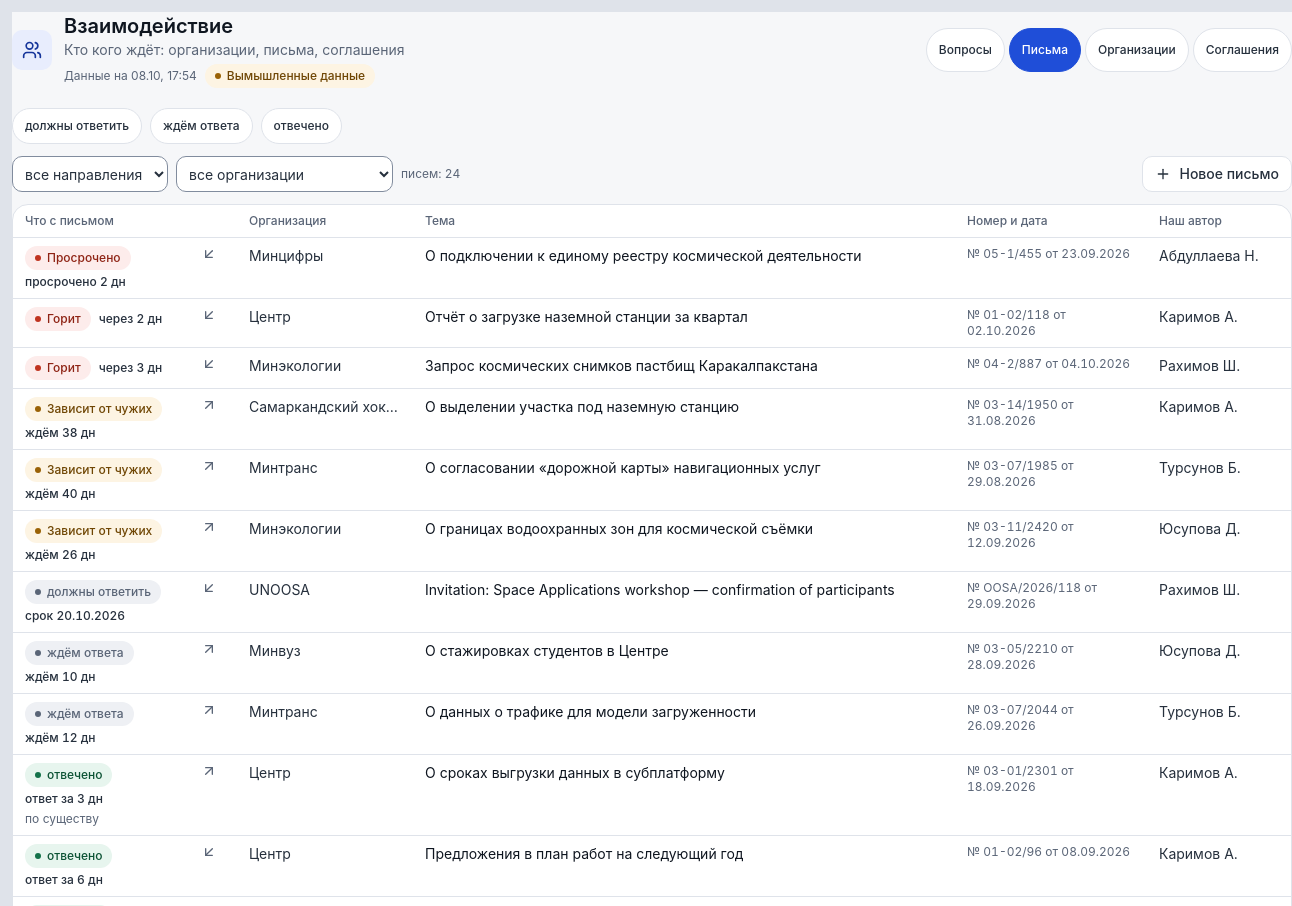
Test case: Взаимодействие › помощник вносит письмо — оно в списке
Click the button "Новое письмо" at x=1217, y=174, box [1142,156,1291,192]
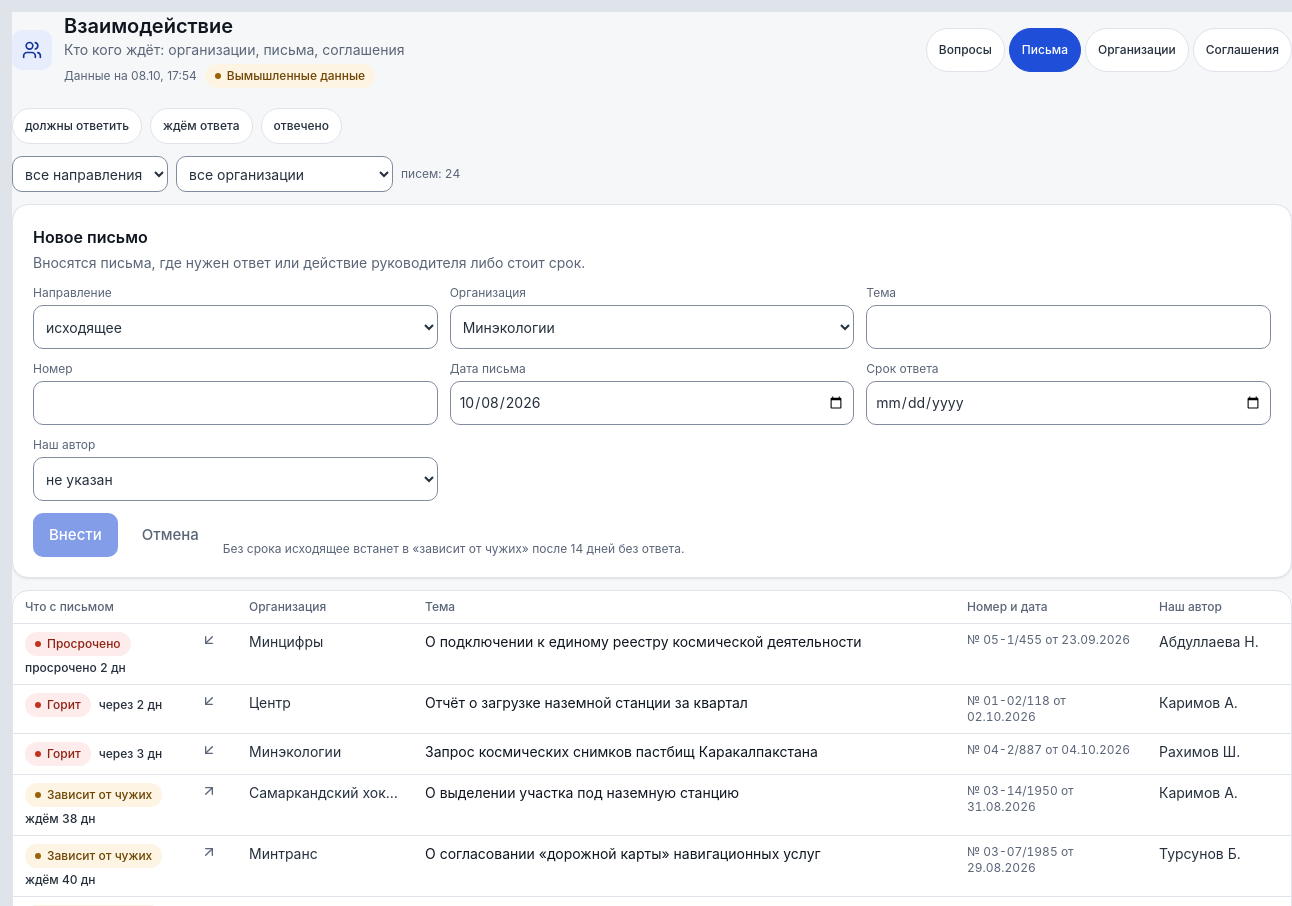
Type "О данных для отчёта по засухе" into the field labelled "Тема" at x=1069, y=327, box [866,305,1271,349]
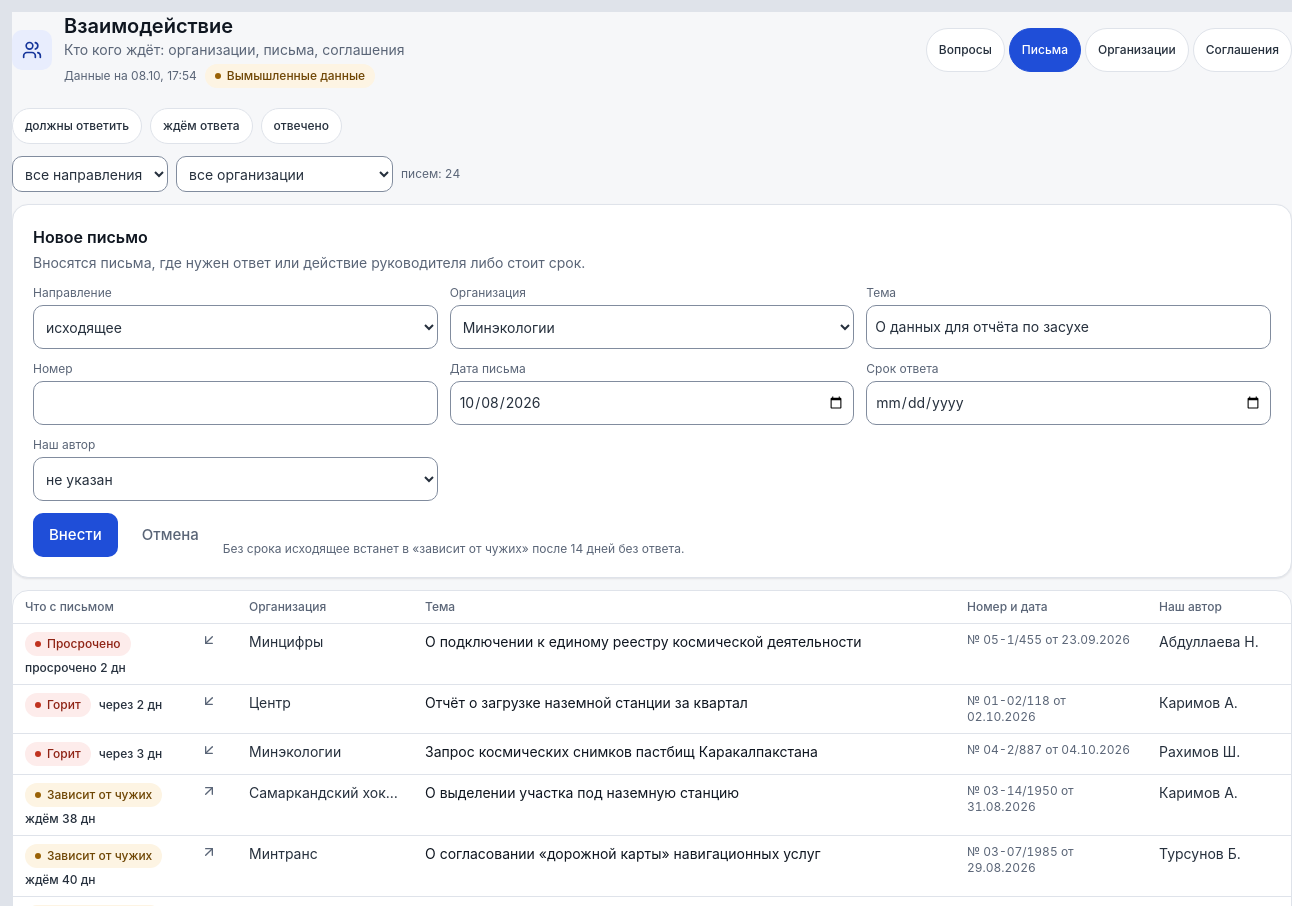
Click the button "Внести" at x=75, y=535, box [33,513,118,557]
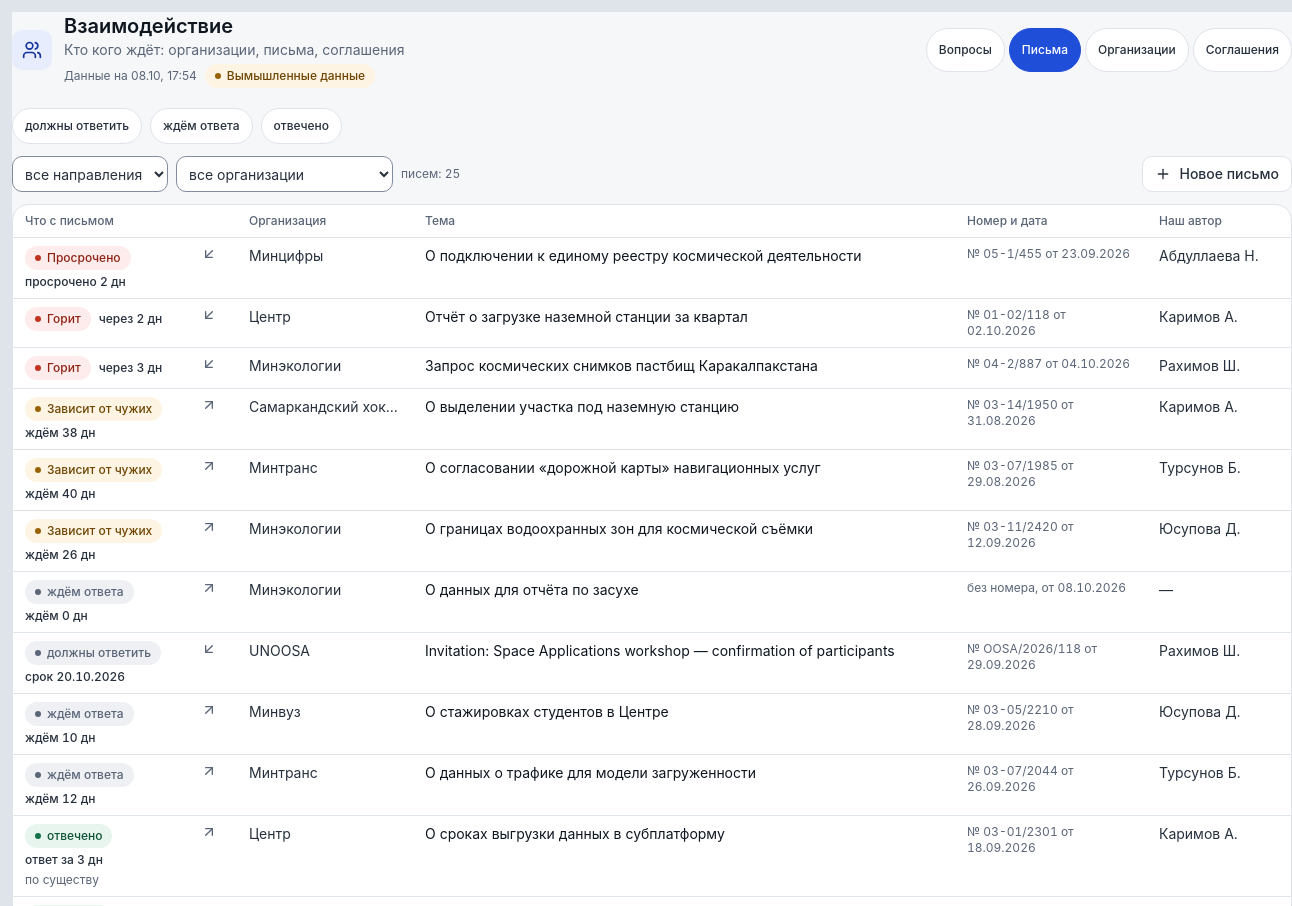
Expected: the button "О данных для отчёта по засухе" is shown, [425,580,639,600]
